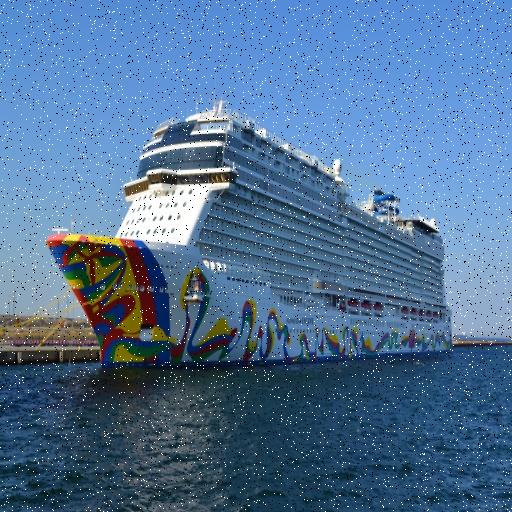cruises: (47, 83, 459, 369)
